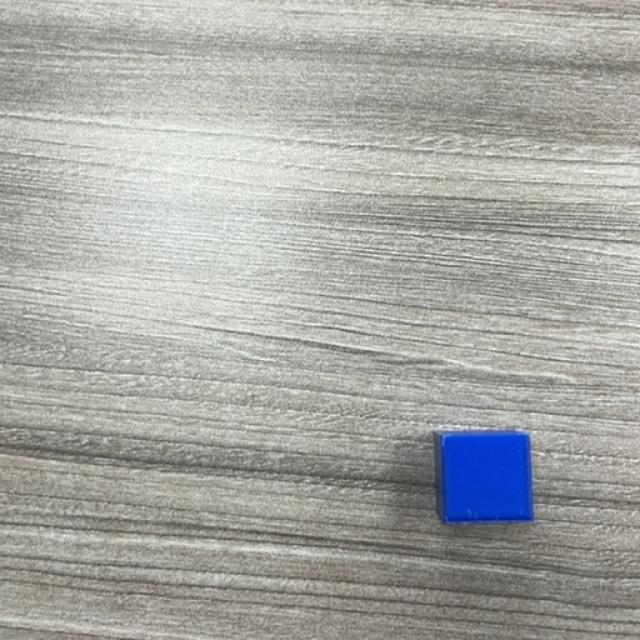Azul: (434, 432, 535, 526)
